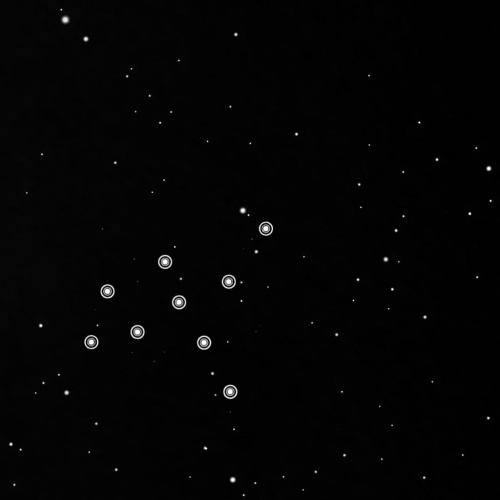cygnus: (76, 215, 279, 405)
